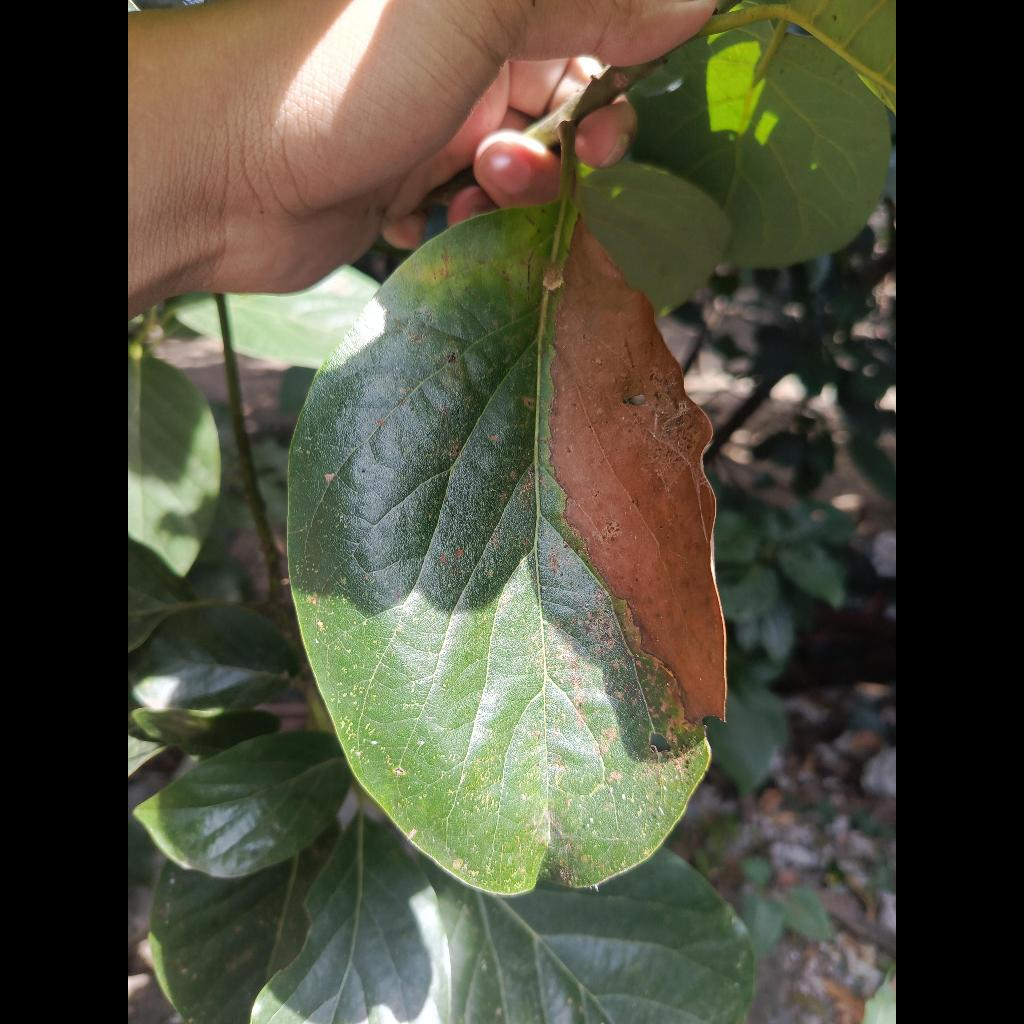antracnosis_hoja: (288, 203, 725, 894)
